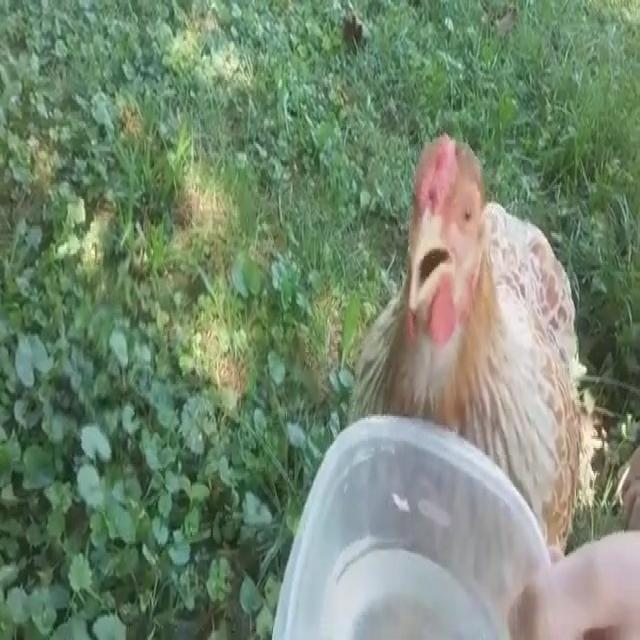Breathing: (345, 132, 596, 556)
